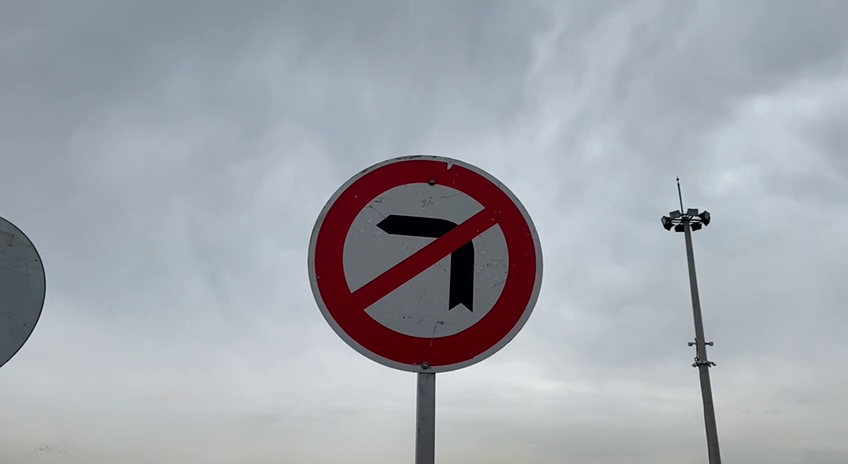noTurnLeft: (306, 153, 547, 376)
